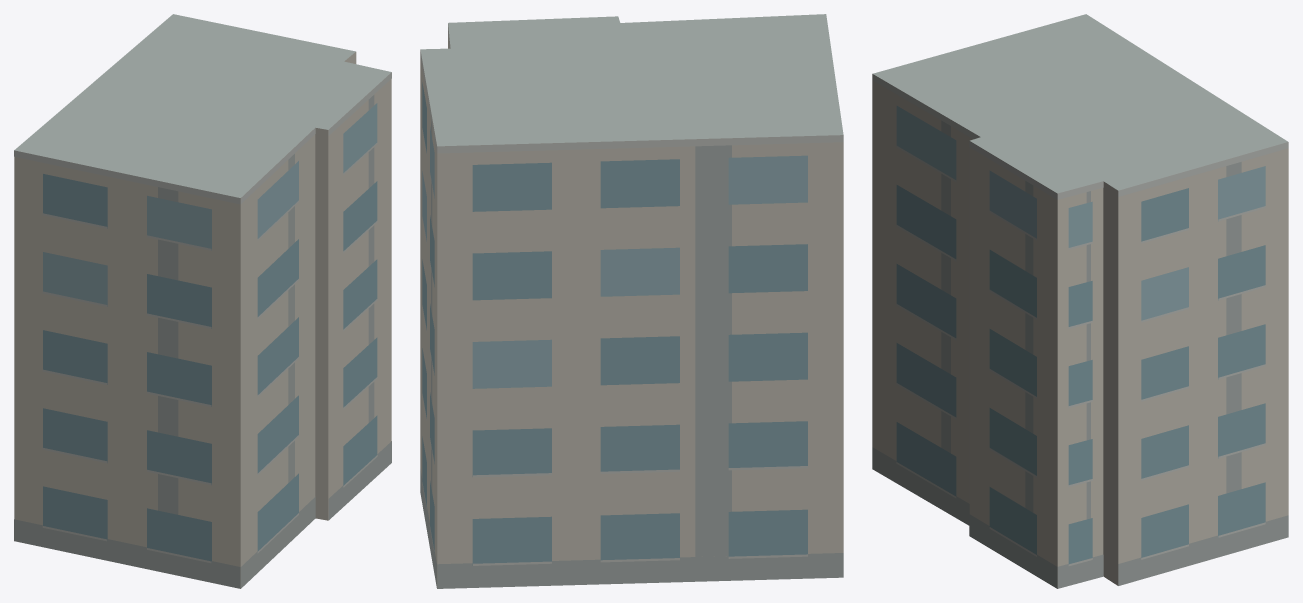
The model's file is survey-upis-32883372.glb.
The picture shows the model from 3 angles, left to right: view 1: azimuth 30°, elevation 25°; view 2: azimuth 150°, elevation 25°; view 3: azimuth 270°, elevation 25°; orthographic projection. The views are drawn at different scales.
Visible parts, largest first — view 1: survey-upis-32883372.tmp; view 2: survey-upis-32883372.tmp; view 3: survey-upis-32883372.tmp.
Boxes of the visible parts, x1,y1,x2,y2 form: survey-upis-32883372.tmp: (14, 14, 391, 588); survey-upis-32883372.tmp: (420, 14, 843, 588); survey-upis-32883372.tmp: (872, 14, 1288, 588).
Size of the model in its own units: 14.66 by 15.05 by 14.36.
